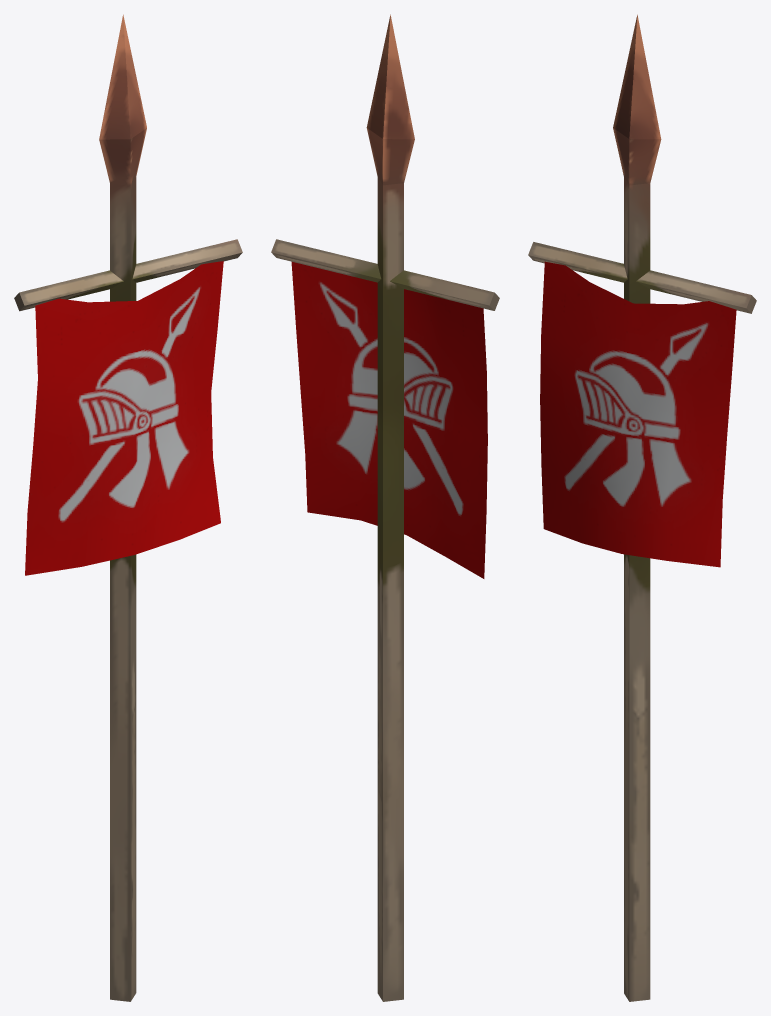
File: Rome_Village_Props_04.FBX
3 views of the same model, side by side, from view 1: azimuth 30°, elevation 25°; view 2: azimuth 150°, elevation 25°; view 3: azimuth 330°, elevation 25° (orthographic).
Visible parts, largest first — view 1: Rome_Village_Props_04; view 2: Rome_Village_Props_04; view 3: Rome_Village_Props_04.
Boxes of the visible parts, x1=… form: Rome_Village_Props_04: x1=14, y1=14, x2=242, y2=1001; Rome_Village_Props_04: x1=271, y1=14, x2=499, y2=1001; Rome_Village_Props_04: x1=528, y1=14, x2=756, y2=1001.
Bounding box in the file's own units: 74.4 × 320 × 12.46.
